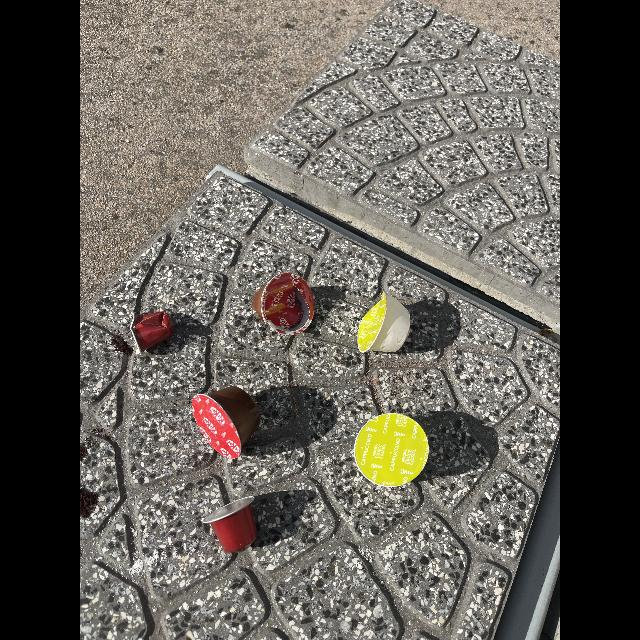damaged_capsule: (248, 268, 324, 342), (354, 288, 424, 357), (126, 302, 176, 358)
intact_capsule: (186, 378, 264, 466), (349, 410, 433, 490), (198, 490, 266, 558)
